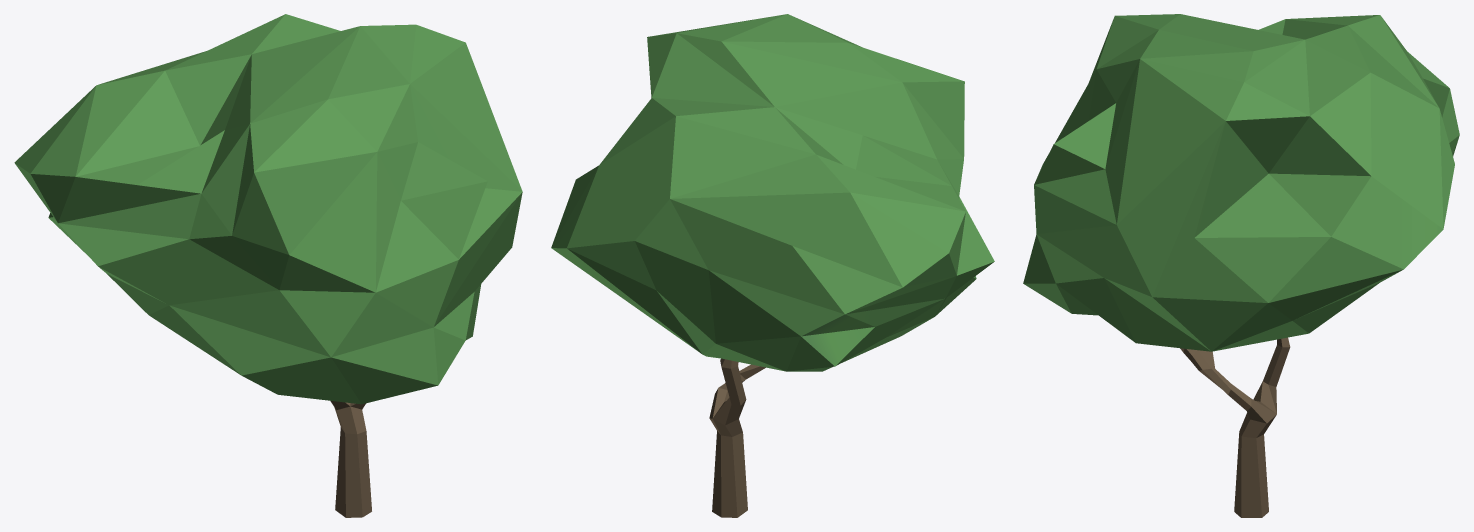
File: Tree_02.fbx
3 renders of one model, left to right at view 1: azimuth 30°, elevation 25°; view 2: azimuth 150°, elevation 25°; view 3: azimuth 270°, elevation 25°, orthographic. The views are drawn at different scales.
Visible parts, largest first — view 1: Tree_02; view 2: Tree_02; view 3: Tree_02.
Boxes of the visible parts, left/top/right/bottom form: Tree_02: left=14, top=14, right=522, bottom=517; Tree_02: left=551, top=14, right=994, bottom=517; Tree_02: left=1023, top=14, right=1459, bottom=517.
Size of the model in its own units: 561 by 629 by 536.
